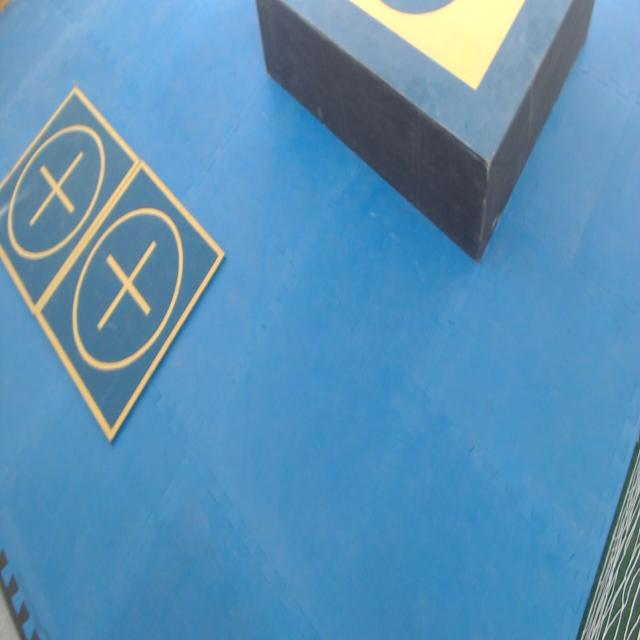base_inicio: (346, 0, 524, 93)
base_pouso: (35, 158, 224, 443), (0, 87, 142, 322)
